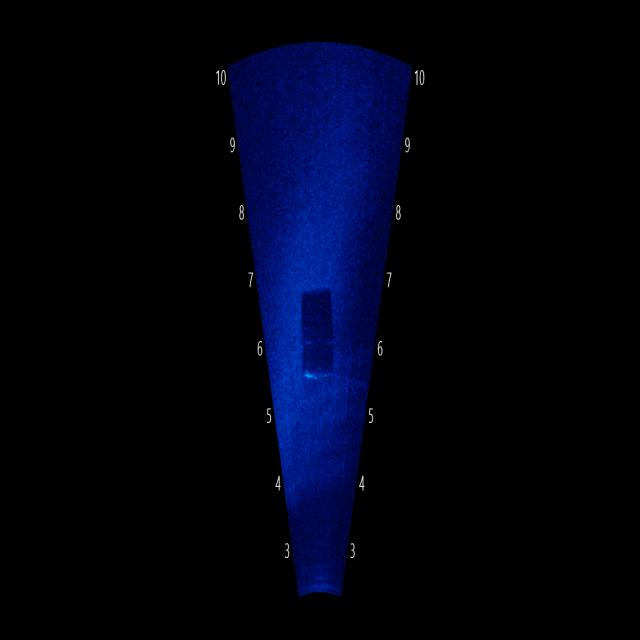square: (280, 263, 351, 392)
